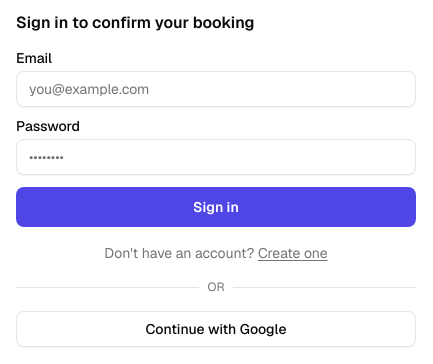
Test: InlineAuthForm › toggles to sign-up mode when user clicks create account
Click the button "Create one".
click(293, 253)  # box top-left (258, 243), bottom-right (328, 263)
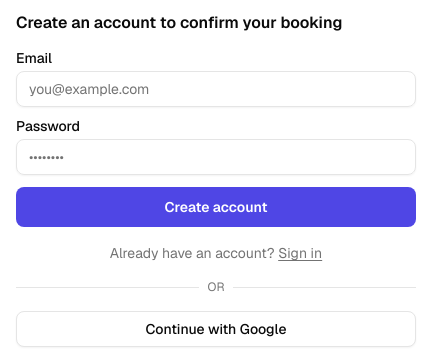
Check: the button "Create account" is shown, box top-left (16, 187), bottom-right (416, 227)
